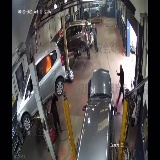fire: (44, 55, 53, 77)
